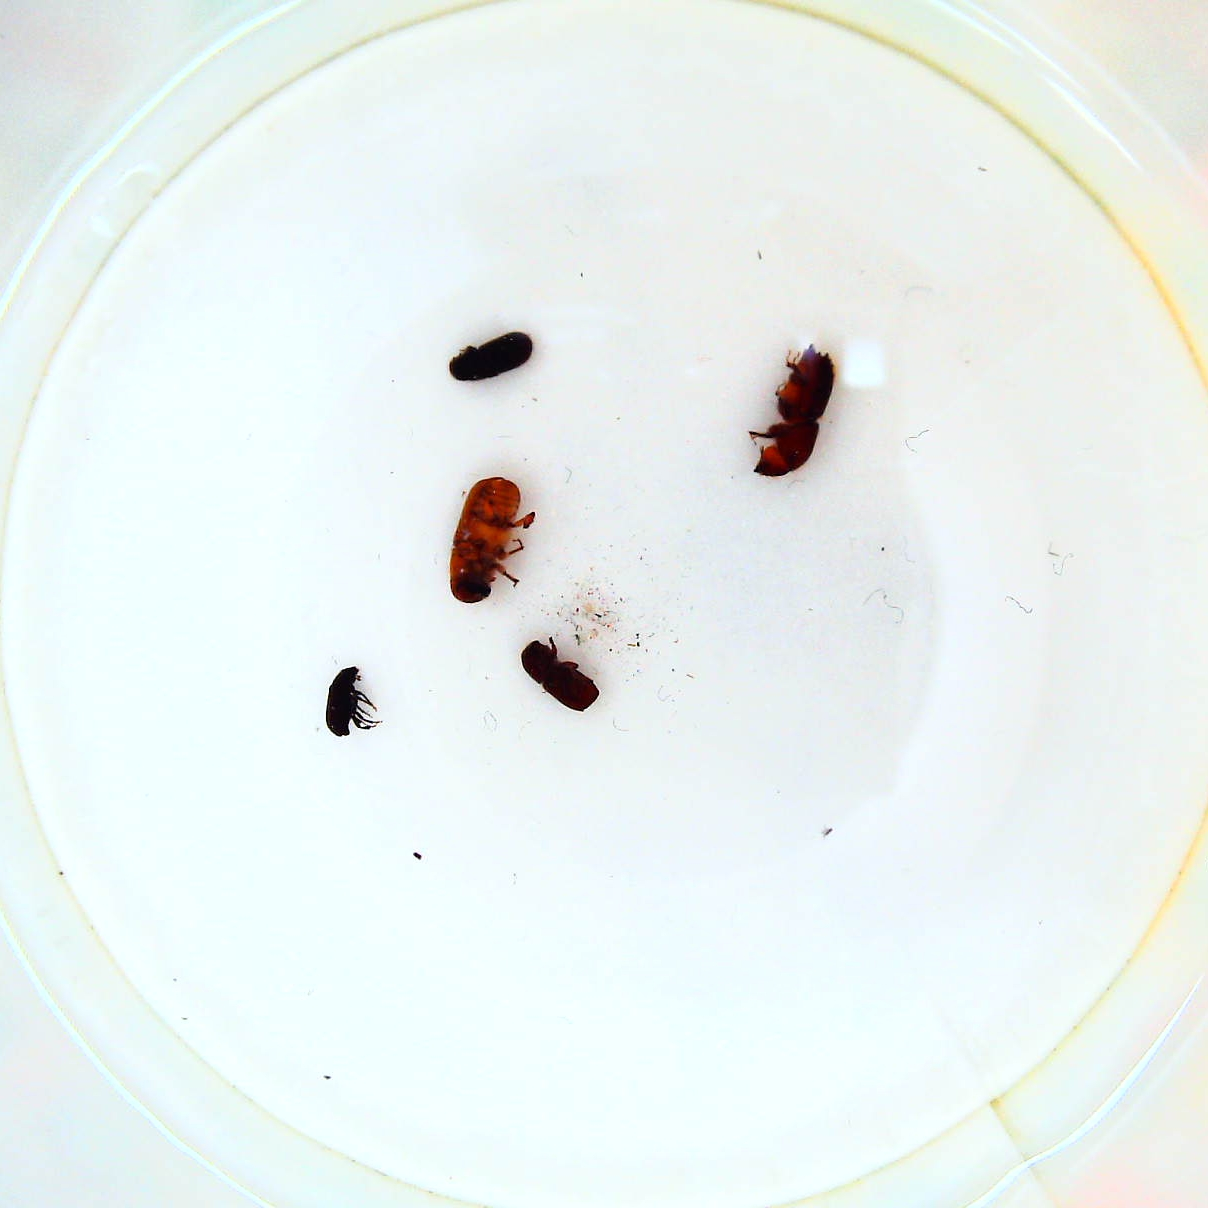Boerner: (748, 335, 848, 485)
Leconte: (448, 469, 538, 606)
armandi: (442, 325, 538, 389)
coleoptera: (321, 657, 382, 742)
linnaeus: (521, 633, 602, 718)
